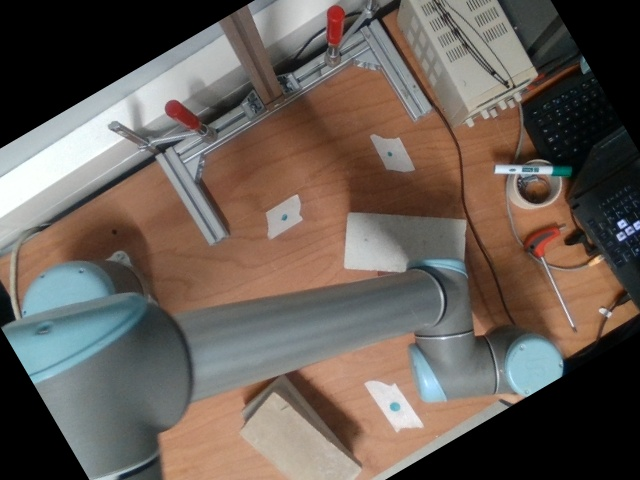brick: (238, 390, 366, 479)
